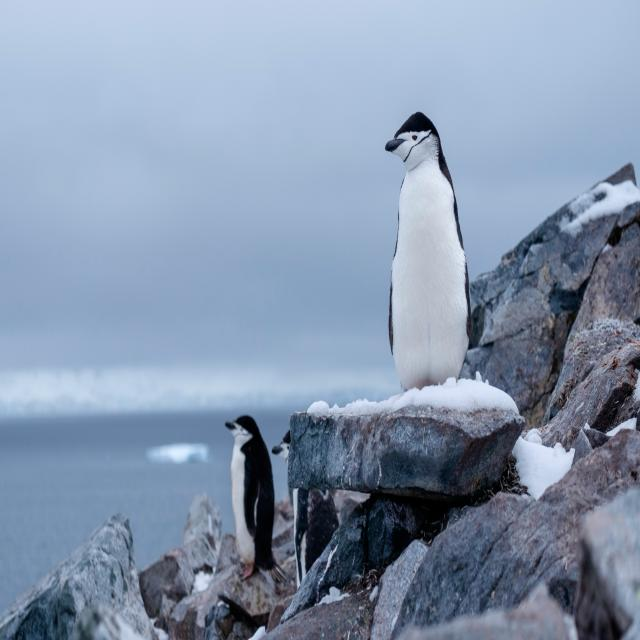Penguins: (380, 106, 474, 396), (220, 403, 282, 580), (271, 416, 297, 570)
